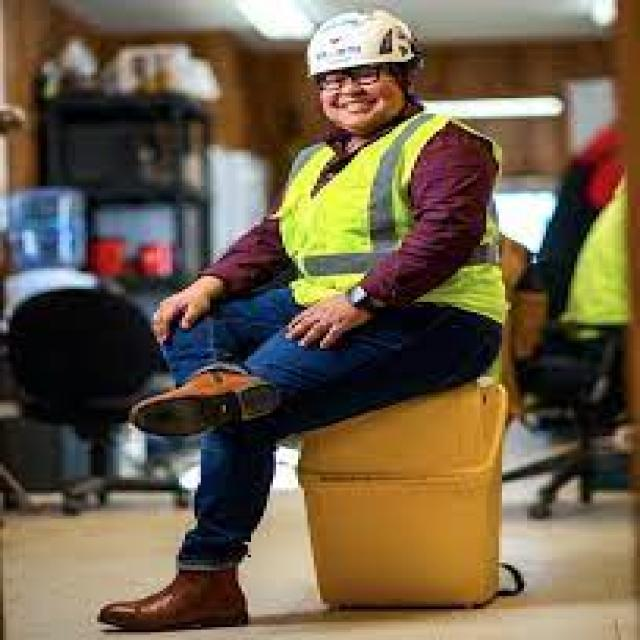shoes: (86, 568, 258, 633), (126, 368, 281, 439)
